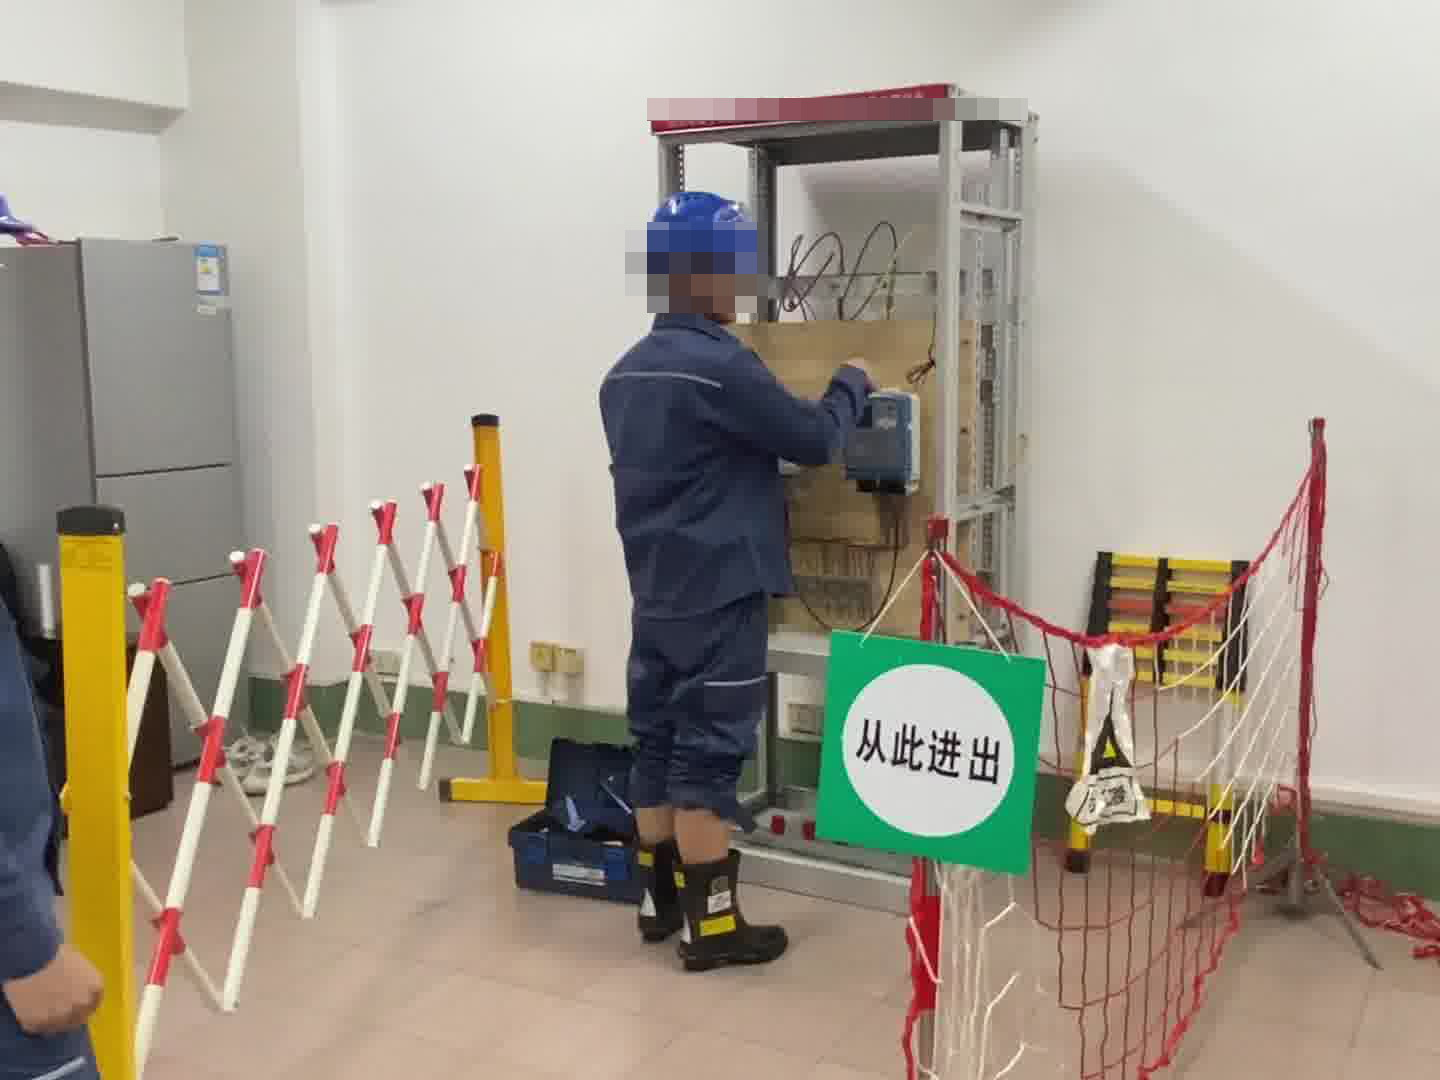downsuit: (616, 608, 773, 820)
halt: (641, 189, 768, 313)
hand: (1, 946, 111, 1041)
inear: (657, 253, 727, 309)
intosign: (813, 626, 1048, 878)
person: (579, 183, 873, 979)
shoe: (630, 838, 791, 975)
upsuit: (597, 312, 862, 599)
wrongbottom: (629, 761, 740, 863)
